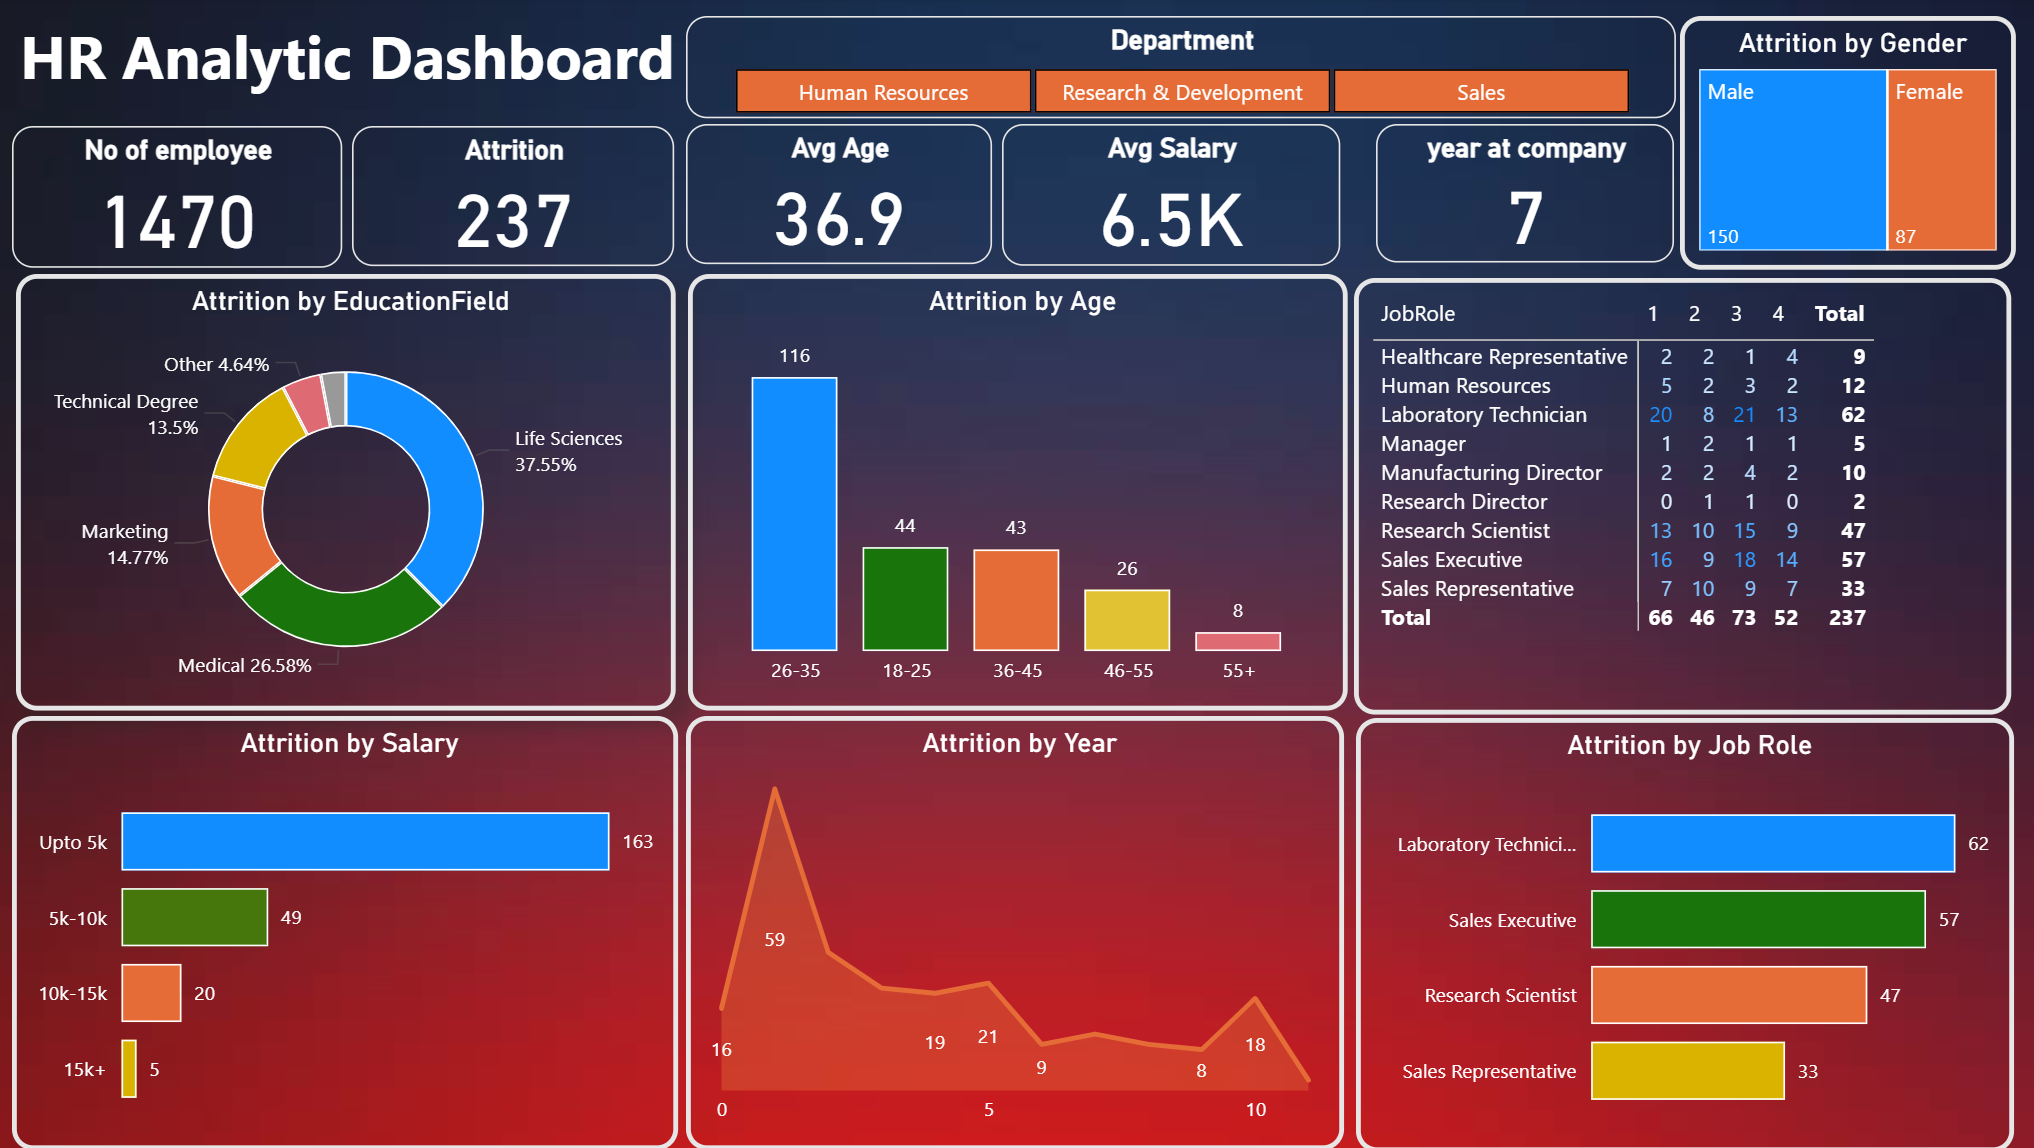

The dashboard page shown, as its layout file describes it:
{"tool":"powerbi","page":{"name":"HR Analytics","canvas":[1280,720],"ordinal":0},"visuals":[{"type":"card","title":"No of employee","fields":{"Values":["CountNonNull(HR_Analytics.EmpID)"]},"box":[13.7,80.7,204.8,88.1],"z":0},{"type":"card","title":"Attrition","fields":{"Values":["Sum(HR_Analytics.Attrition_Count)"]},"box":[224.7,80.7,199.9,86.9],"z":1000},{"type":"card","title":"Avg Age","fields":{"Values":["Avg(HR_Analytics.Age)"]},"box":[432,79.5,190,86.9],"z":2000},{"type":"card","title":"Avg Salary","fields":{"Values":["Avg(HR_Analytics.MonthlyIncome)"]},"box":[628.2,79.5,209.8,88.1],"z":3000},{"type":"card","title":"year at company","fields":{"Values":["Avg(HR_Analytics.YearsAtCompany)"]},"box":[859.9,79.8,185.2,85.8],"z":4000},{"type":"donutChart","title":"Attrition by EducationField","fields":{"Category":["HR_Analytics.EducationField"],"Y":["Sum(HR_Analytics.Attrition_Count)"]},"box":[16.6,173.2,409.6,271.1],"z":5000},{"type":"columnChart","title":"Attrition by Age","fields":{"Category":["HR_Analytics.AgeGroup"],"Y":["Sum(HR_Analytics.Attrition_Count)"]},"box":[433.7,173.2,409.6,271.1],"z":6000},{"type":"pivotTable","title":"Attrition by EducationField","fields":{"Rows":["HR_Analytics.JobRole"],"Columns":["HR_Analytics.JobSatisfaction"],"Values":["Sum(HR_Analytics.Attrition_Count)"]},"box":[846.3,174.7,408.1,271.1],"z":7000},{"type":"clusteredBarChart","title":"Attrition by Salary","fields":{"Category":["HR_Analytics.SalarySlab"],"Y":["Sum(HR_Analytics.Attrition_Count)"]},"box":[13.7,446.9,413.4,269.4],"z":8000},{"type":"clusteredBarChart","title":"Attrition by Job Role","fields":{"Category":["HR_Analytics.JobRole"],"Y":["Sum(HR_Analytics.Attrition_Count)"]},"box":[848,448.2,408.5,269.4],"z":9000},{"type":"stackedAreaChart","title":"Attrition by Year","fields":{"Category":["HR_Analytics.YearsAtCompany"],"Y":["Sum(HR_Analytics.Attrition_Count)"]},"box":[432,446.9,408.5,269.4],"z":10000},{"type":"treemap","title":"Attrition by Gender","fields":{"Group":["HR_Analytics.Gender"],"Values":["Sum(HR_Analytics.Attrition_Count)"]},"box":[1049.1,12.4,208.6,157.7],"z":11000},{"type":"slicer","title":"Department","fields":{"Values":["HR_Analytics.Department"]},"box":[432,12.4,614.5,63.3],"z":12000},{"type":"textbox","box":[13.7,6.2,419.6,70.8],"z":13000}]}

Visuals, with their boxes in screenshot pixels (x1, y1, x2, y2), scaled from the page's 1280x720 canvas onto the 2034x1148 screenshot:
"No of employee" card: crop(22, 129, 347, 269)
"Attrition" card: crop(357, 129, 675, 267)
"Avg Age" card: crop(686, 127, 988, 265)
"Avg Salary" card: crop(998, 127, 1332, 267)
"year at company" card: crop(1366, 127, 1661, 264)
"Attrition by EducationField" donutChart: crop(26, 276, 677, 708)
"Attrition by Age" columnChart: crop(689, 276, 1340, 708)
"Attrition by EducationField" pivotTable: crop(1345, 279, 1993, 711)
"Attrition by Salary" clusteredBarChart: crop(22, 713, 679, 1142)
"Attrition by Job Role" clusteredBarChart: crop(1348, 715, 1997, 1144)
"Attrition by Year" stackedAreaChart: crop(686, 713, 1336, 1142)
"Attrition by Gender" treemap: crop(1667, 20, 1999, 271)
"Department" slicer: crop(686, 20, 1663, 121)
textbox: crop(22, 10, 689, 123)
